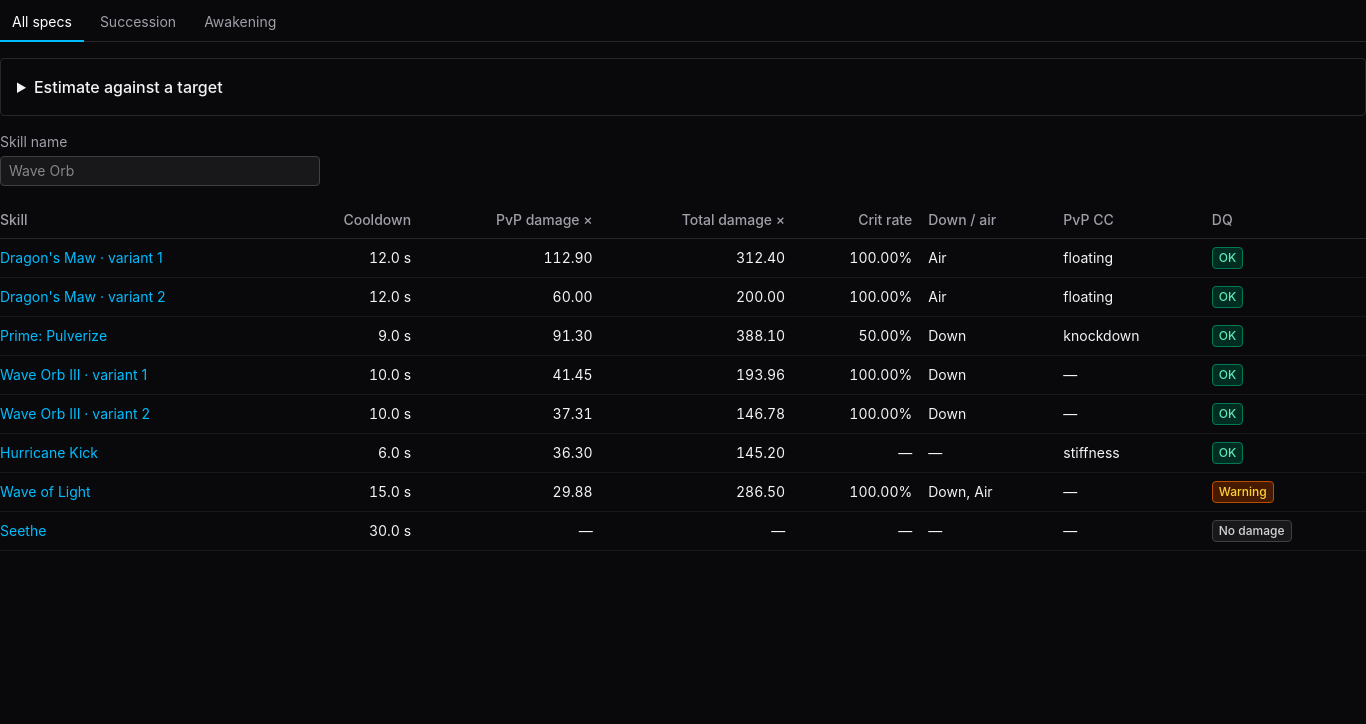
ClassSkillsPage › shows the expected HP loss of each skill against the target
Click the heading "Estimate against a target": (128, 87) [34,77,223,97]
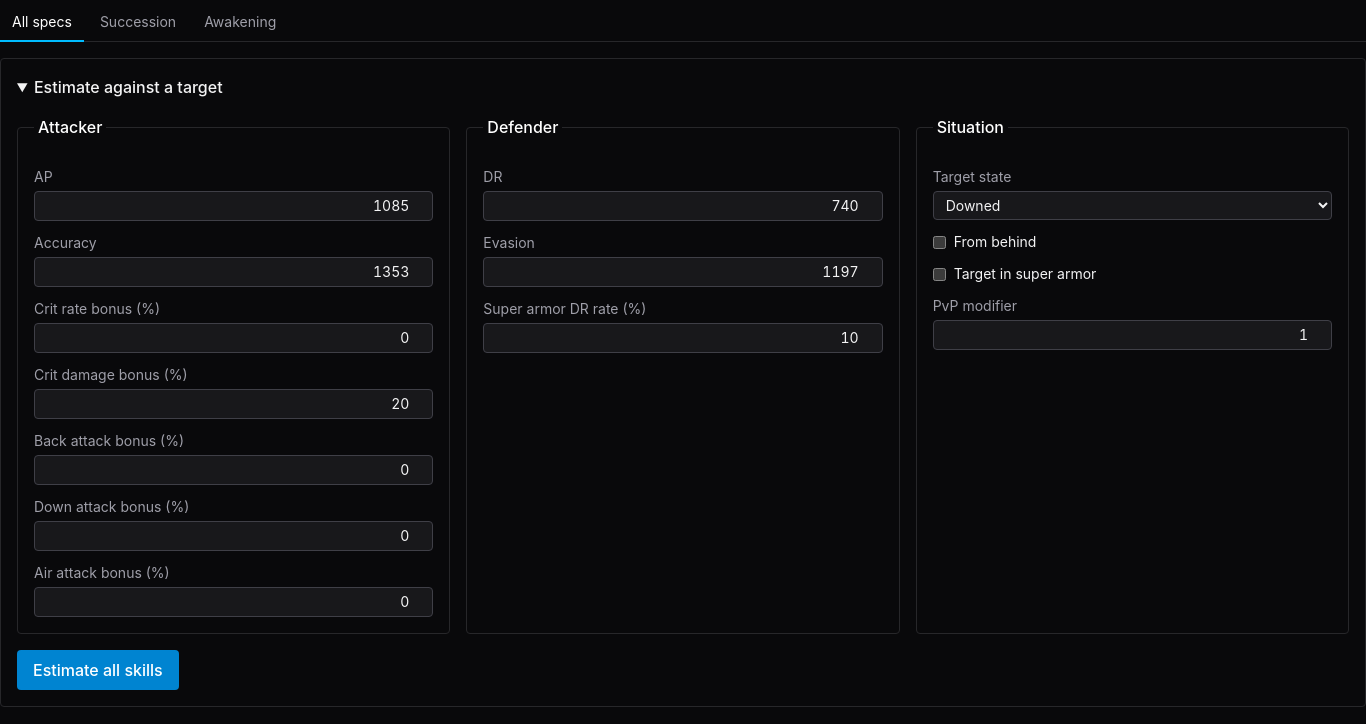
Click the button "Estimate all skills": (98, 670) [17,650,179,690]
(page scrolled)
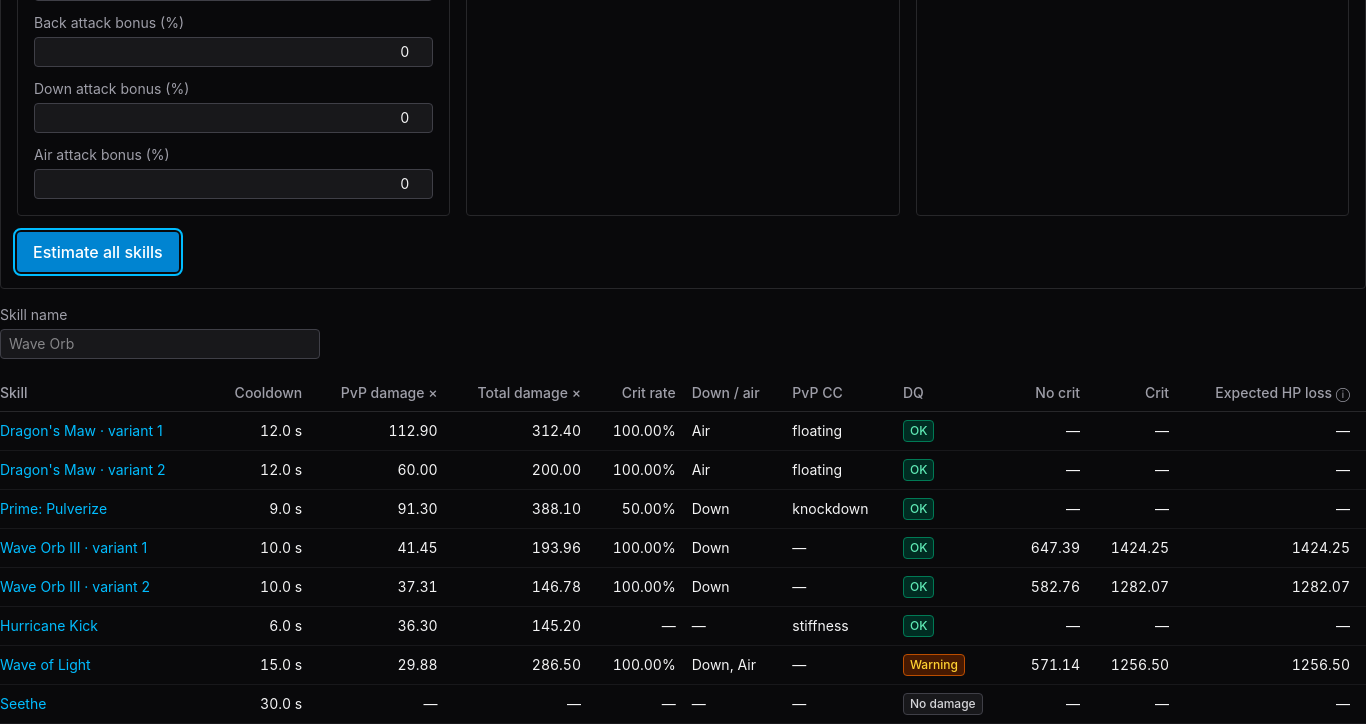
Expected: the column heading "Expected HP loss ⓘ" is shown, [1185,375,1365,412]
Expected: the 2nd cell "1424.25" is shown, [1185,528,1365,568]
